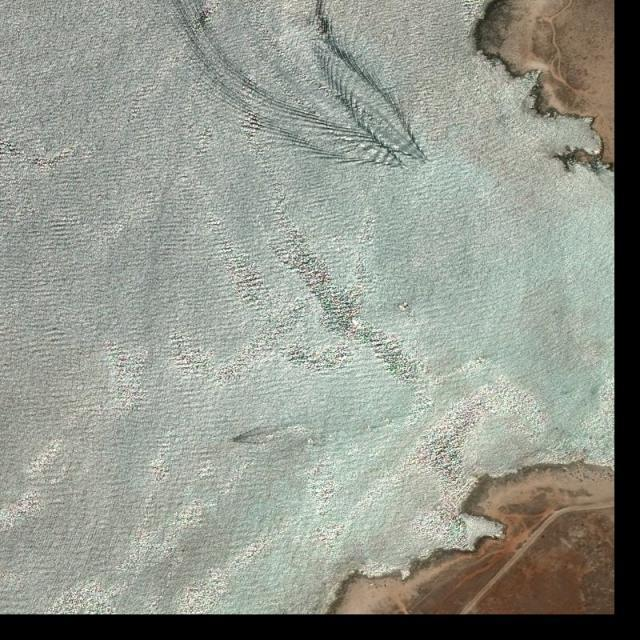ship: (350, 318, 364, 331), (402, 301, 410, 310), (424, 159, 433, 166), (478, 356, 486, 363), (402, 165, 410, 171), (476, 359, 482, 366), (399, 306, 406, 311), (229, 438, 235, 442)
